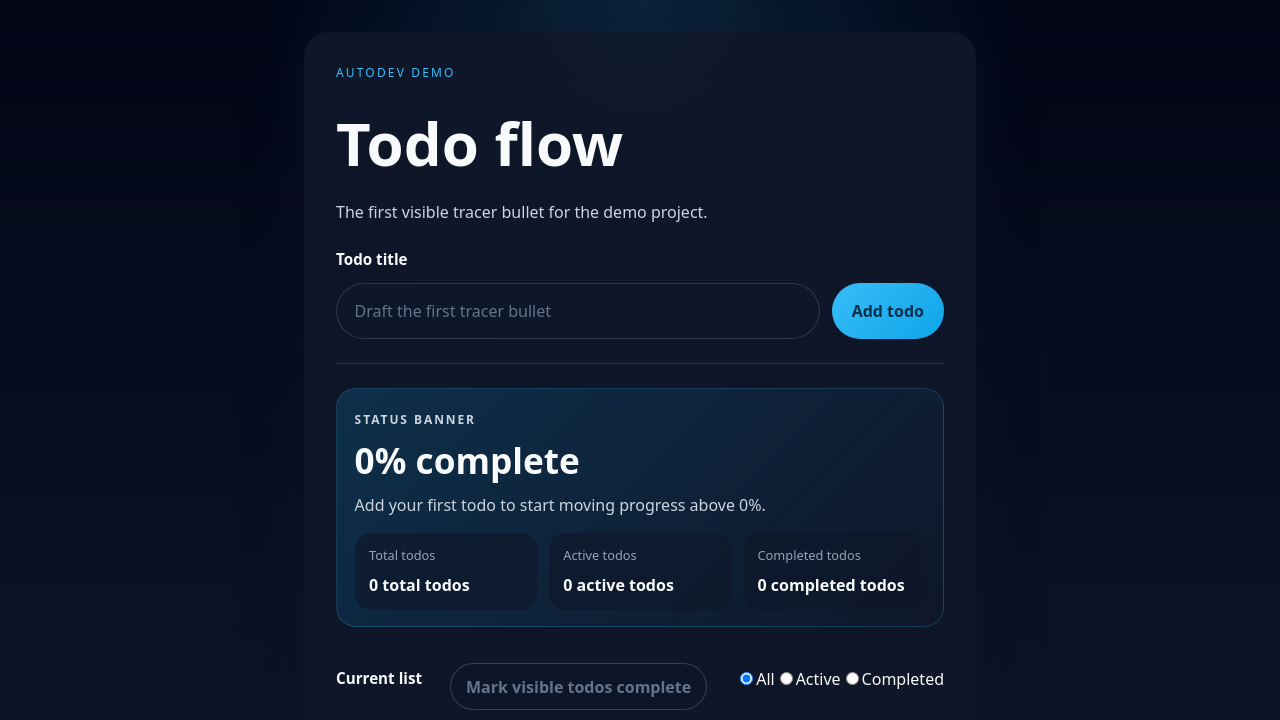
Scenario: Todo app shell › disables the bulk toggle button when there are no visible todos
Check: the button "Mark visible todos complete" is disabled, box [450,663,707,710]
Type "Completed todo" into the field labelled "Todo title" at (578, 311), box [336,283,820,339]
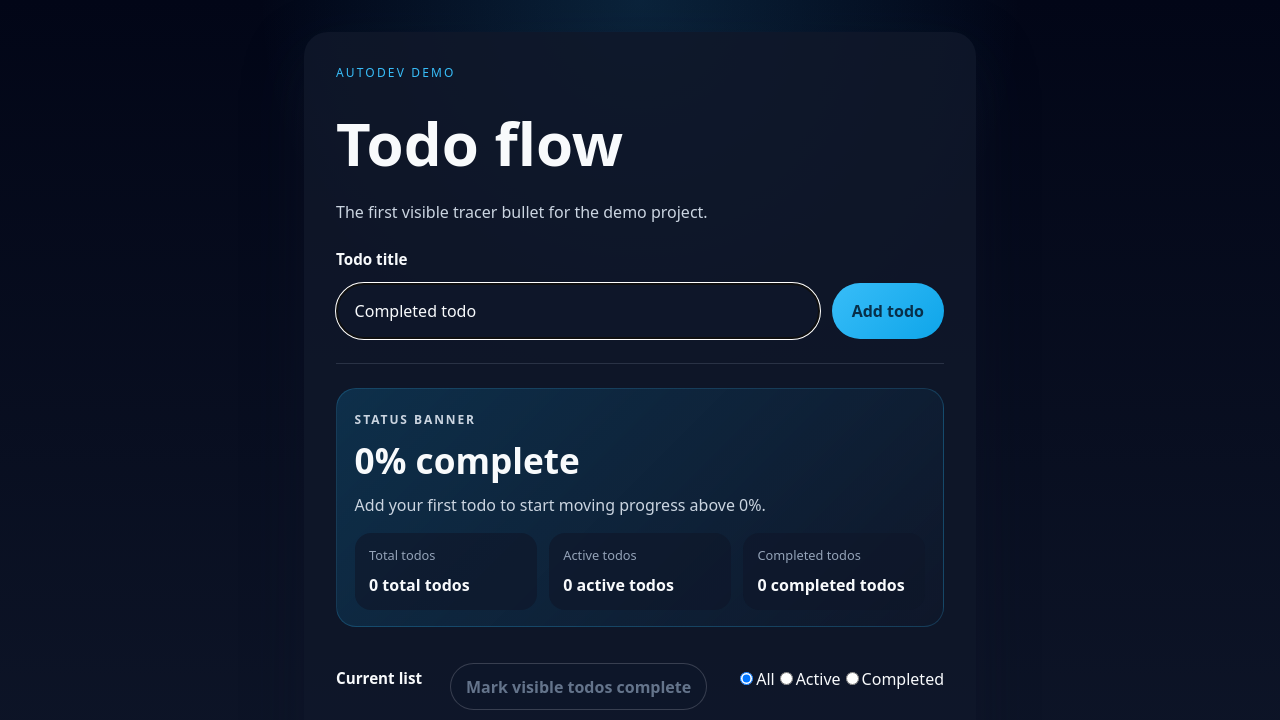
Click the button "Add todo" at (888, 311), box [832,283,944,339]
(page scrolled)
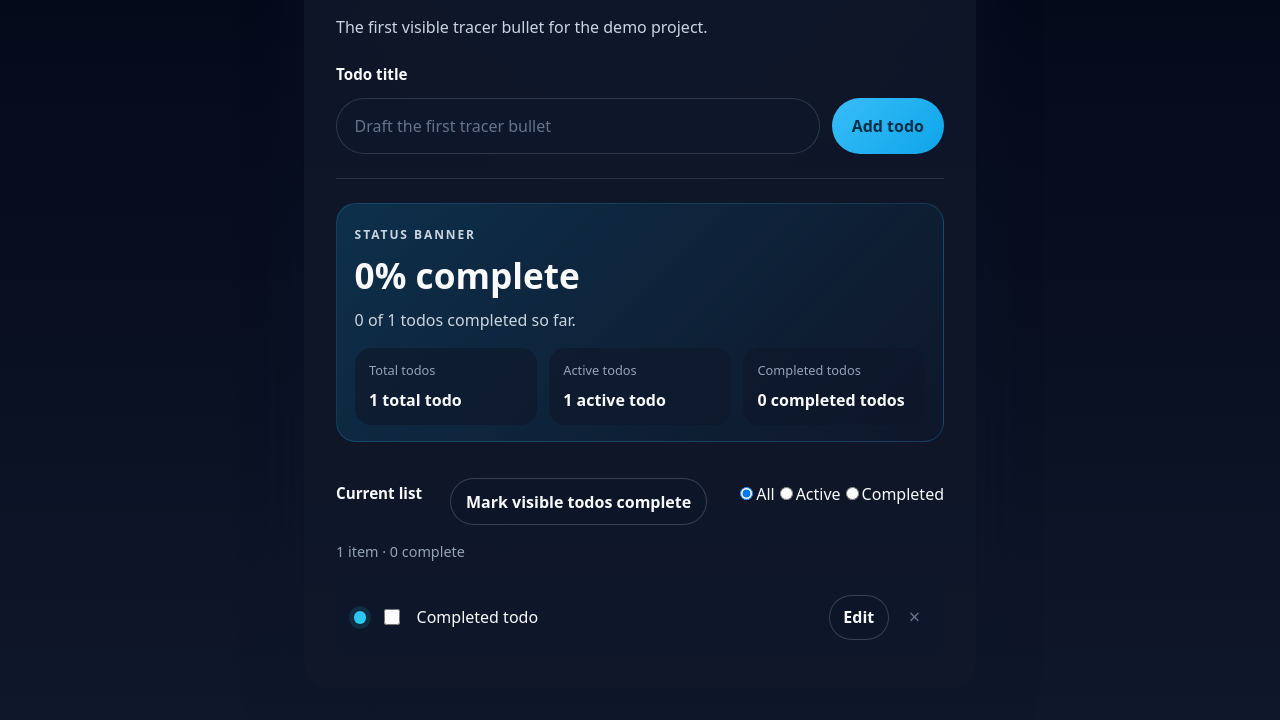
Click the checkbox labelled "Completed todo" at (392, 617), box [384,609,400,625]
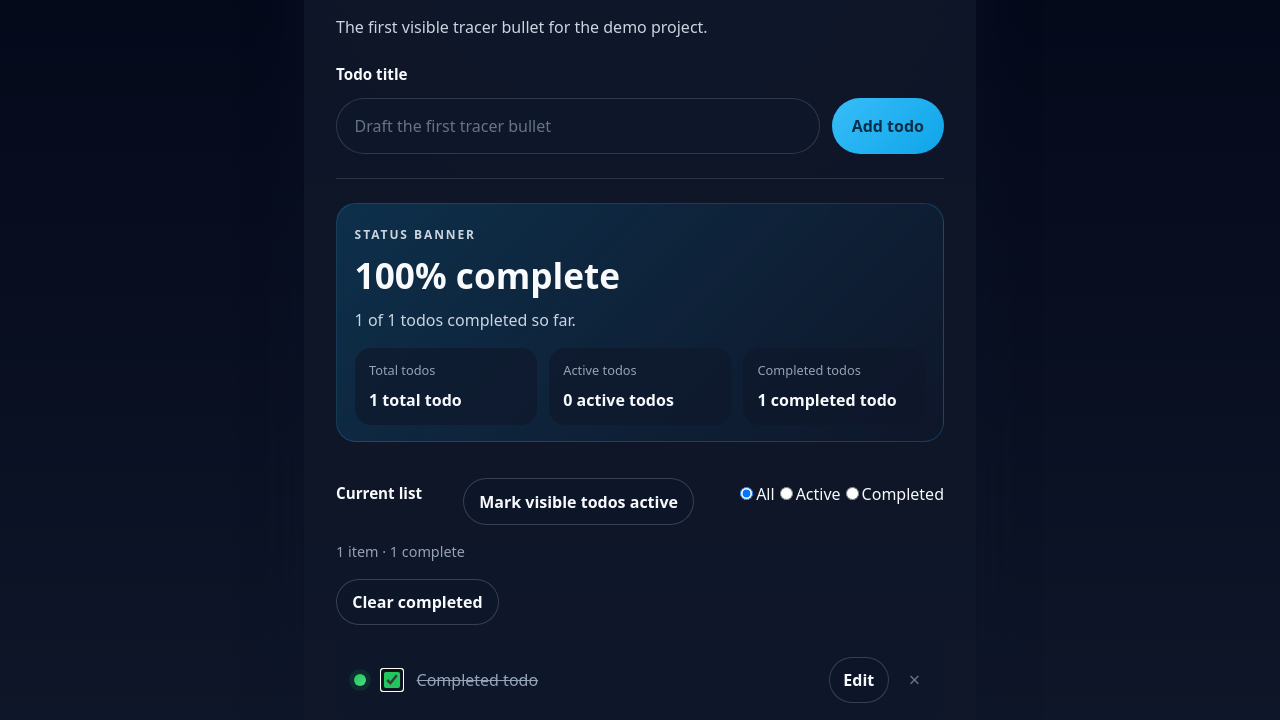
Click the radio button labelled "Active" at (786, 493), box [780,487,793,500]
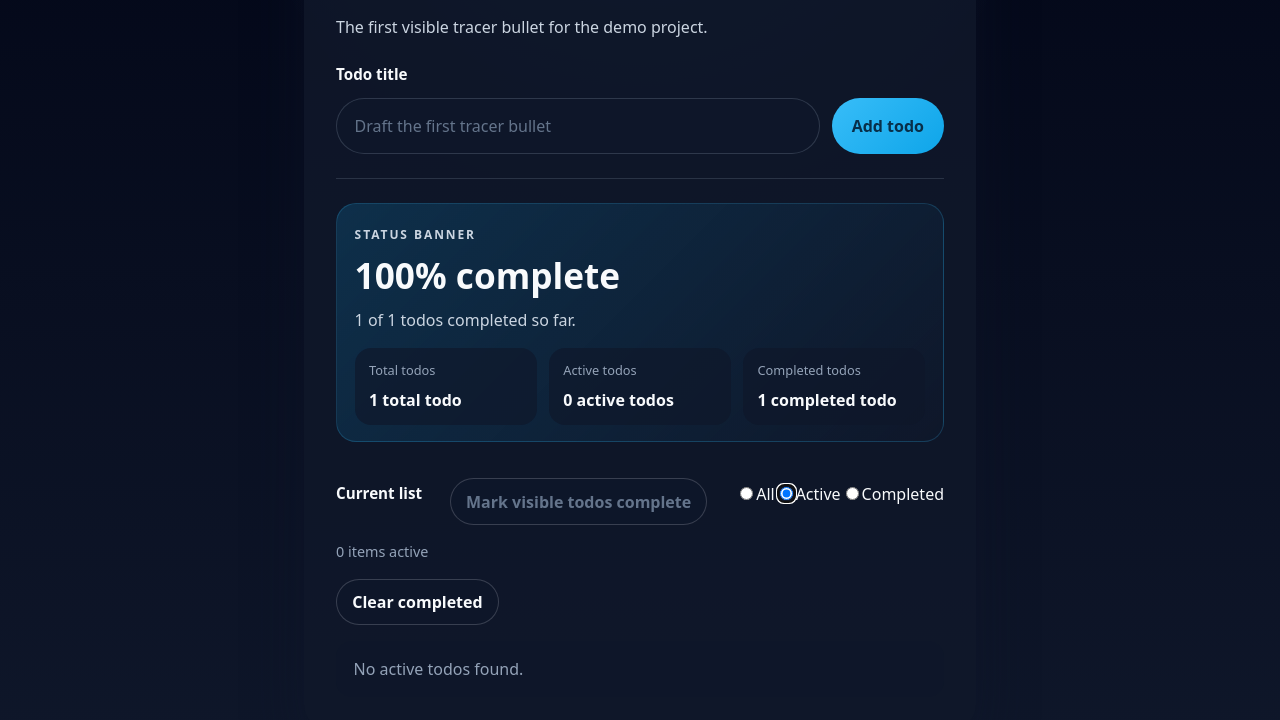
Check: the button "Mark visible todos complete" is disabled, box [450,478,707,525]
Check: the list item "No active todos found." is shown, box [336,642,944,698]
